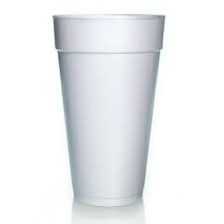paper_cup: (43, 8, 169, 212)
